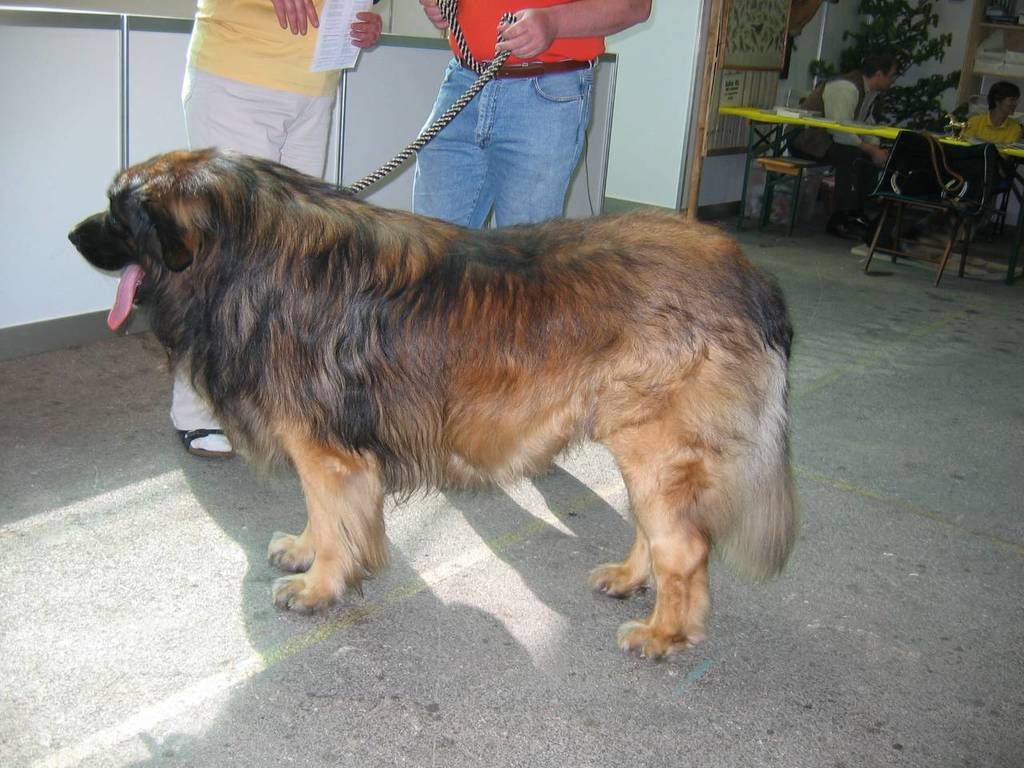Person: (168, 0, 383, 458), (413, 0, 651, 229), (786, 52, 901, 239), (961, 79, 1023, 148)
